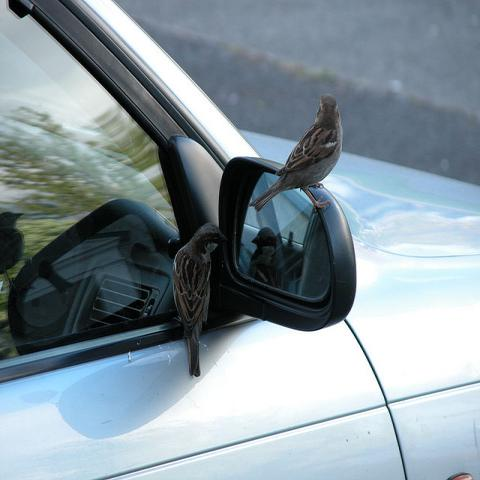car: (1, 1, 479, 475)
